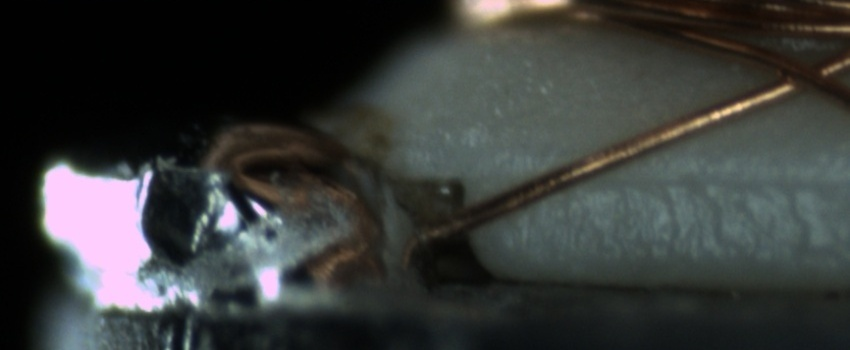CL: (752, 45, 845, 104)
DL: (545, 142, 843, 209)
